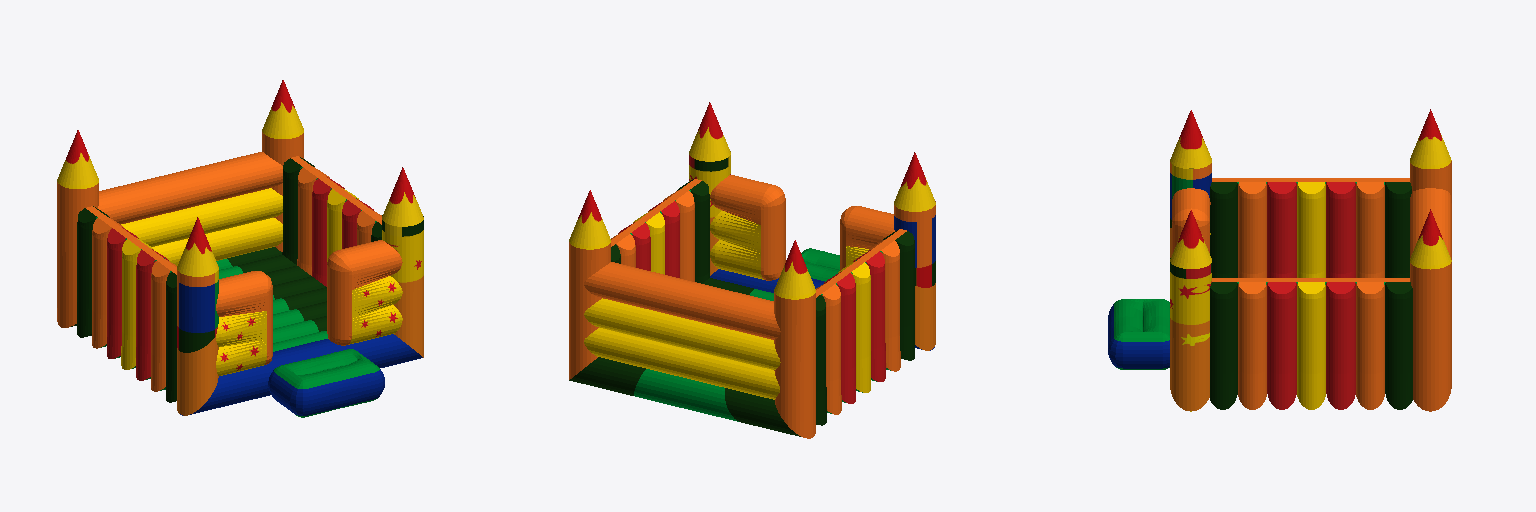
3 renders of one model, left to right at view 1: azimuth 30°, elevation 25°; view 2: azimuth 150°, elevation 25°; view 3: azimuth 270°, elevation 25°, orthographic.
Parts seen in each view (by area): view 1: tra_батут_Цилиндр.004; view 2: tra_батут_Цилиндр.004; view 3: tra_батут_Цилиндр.004.
Boxes of the visible parts, <box> form: tra_батут_Цилиндр.004: <box>57,80,423,417</box>; tra_батут_Цилиндр.004: <box>569,102,935,438</box>; tra_батут_Цилиндр.004: <box>1108,109,1451,411</box>.
Bounding box in the file's own units: 2.03 × 1.56 × 2.5.
1 materials, 1 textured.